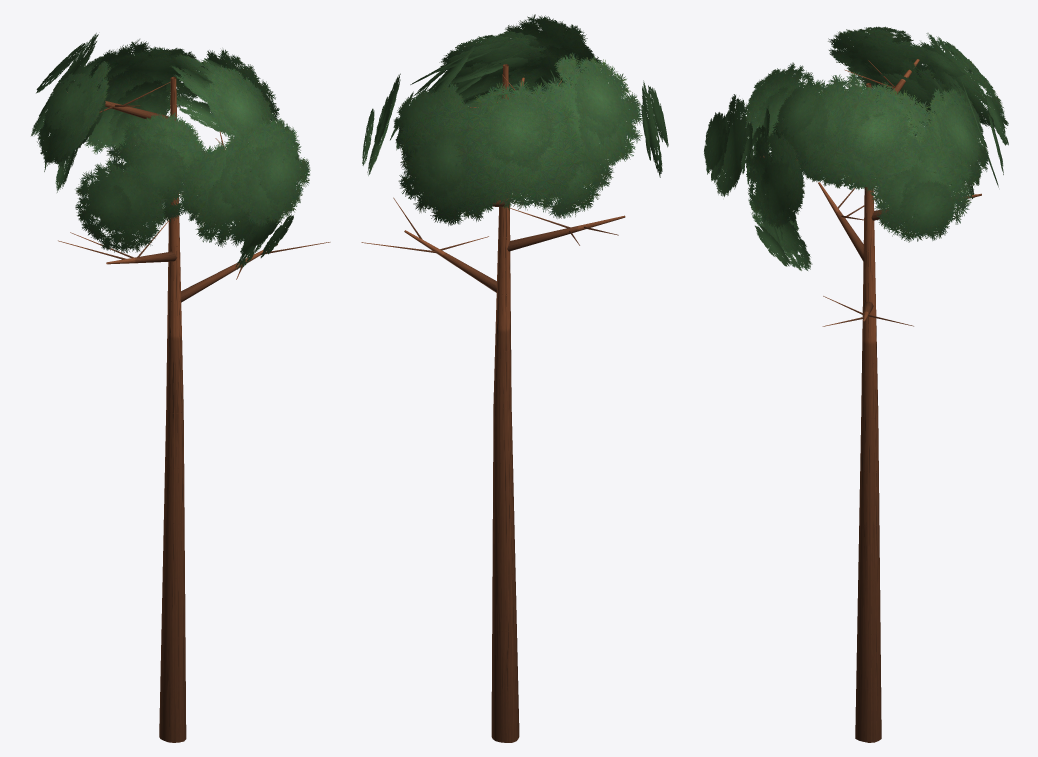
Rendered from Pine_LOD0.fbx.
3 renders of one model, left to right at view 1: azimuth 30°, elevation 25°; view 2: azimuth 150°, elevation 25°; view 3: azimuth 270°, elevation 25°, orthographic. The views are drawn at different scales.
Visible parts, largest first — view 1: Pine_LOD0; view 2: Pine_LOD0; view 3: Pine_LOD0.
Part boxes in pixels (x1,y1,x2,y2): Pine_LOD0: (31, 33, 330, 742); Pine_LOD0: (361, 14, 668, 742); Pine_LOD0: (704, 26, 1008, 742).
Bounding box in the file's own units: 7.62 × 18.61 × 7.96.
1 material, 1 textured.
